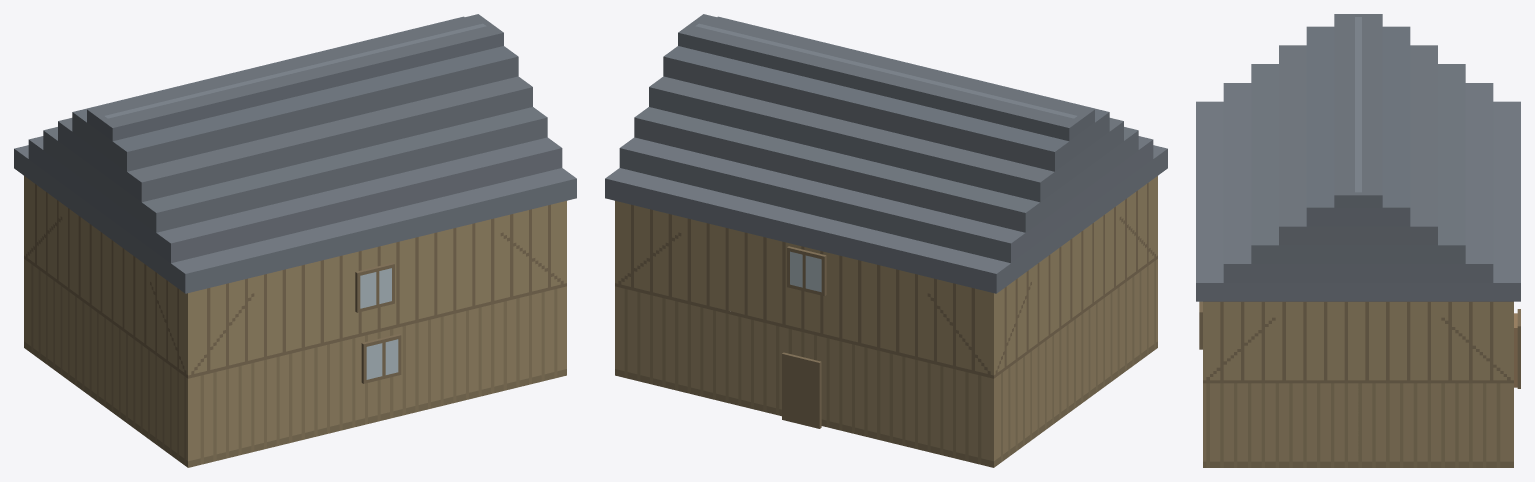
The model's file is casa_noble_04.glb.
3 renders of one model, left to right at view 1: azimuth 30°, elevation 25°; view 2: azimuth 150°, elevation 25°; view 3: azimuth 270°, elevation 25°, orthographic. The views are drawn at different scales.
Visible parts, largest first — view 1: casa_noble_04; view 2: casa_noble_04; view 3: casa_noble_04.
Boxes of the visible parts, x1=… form: casa_noble_04: x1=14, y1=14, x2=576, y2=467; casa_noble_04: x1=605, y1=14, x2=1167, y2=467; casa_noble_04: x1=1196, y1=14, x2=1520, y2=467.
Size of the model in its own units: 12.4 by 8.8 by 9.4.
